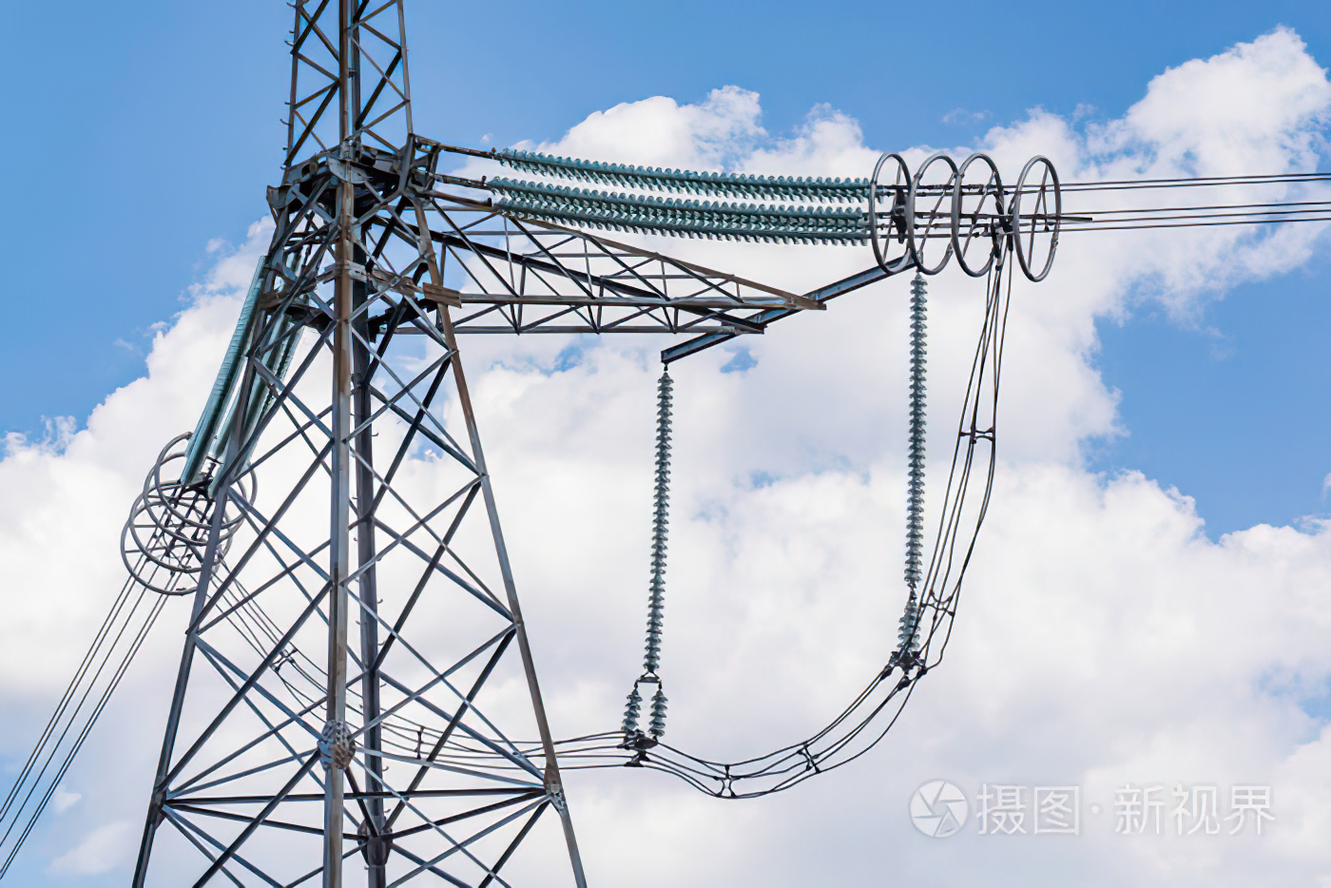insulator: (492, 145, 878, 247), (180, 261, 306, 487), (639, 376, 673, 672), (904, 274, 930, 585)
